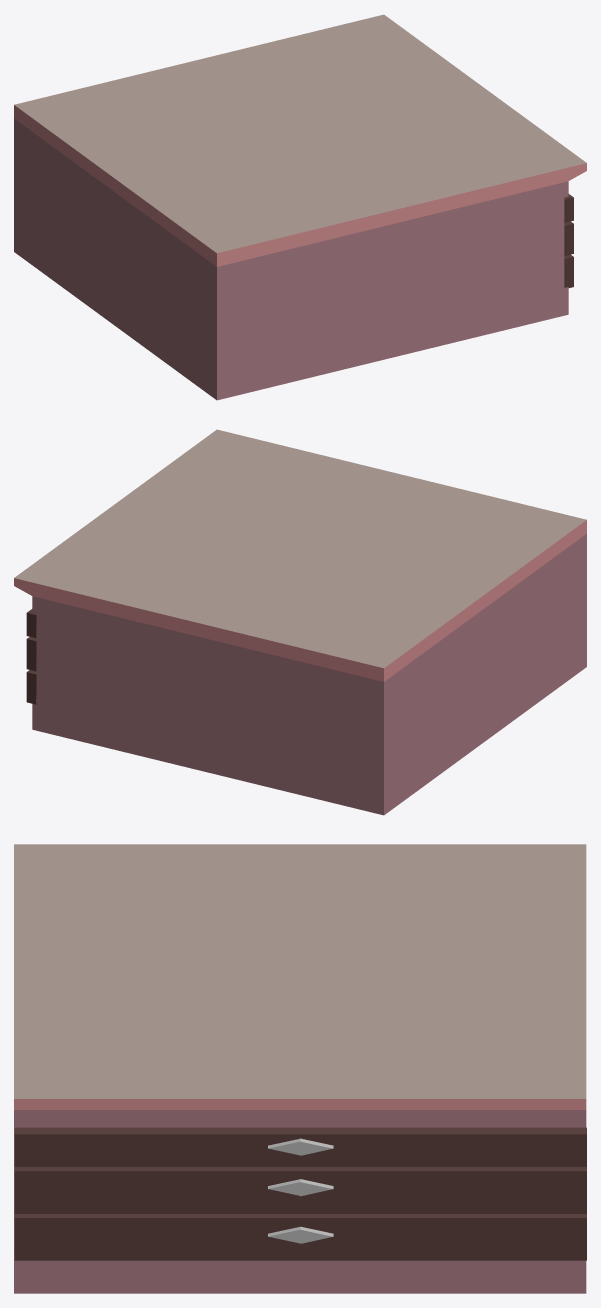
The model's file is Res01_KitchenCabinate2.fbx.
3 views of the same model, one above another, from view 1: azimuth 30°, elevation 25°; view 2: azimuth 150°, elevation 25°; view 3: azimuth 270°, elevation 25° (orthographic). The views are drawn at different scales.
Parts seen in each view (by area): view 1: Res01_KitchenCabinate2; view 2: Res01_KitchenCabinate2; view 3: Res01_KitchenCabinate2.
Boxes of the visible parts, x1=… form: Res01_KitchenCabinate2: x1=14, y1=14, x2=586, y2=400; Res01_KitchenCabinate2: x1=14, y1=429, x2=586, y2=815; Res01_KitchenCabinate2: x1=14, y1=844, x2=586, y2=1293.
Bounding box in the file's own units: 211 × 80 × 200.
